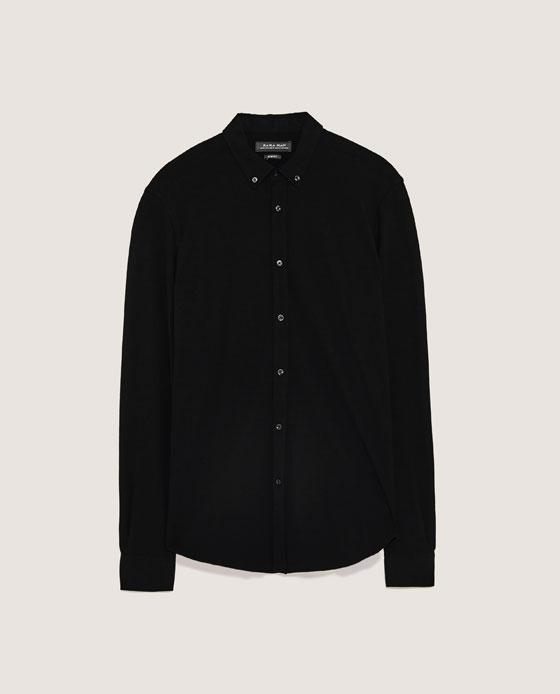teeshirt: (109, 107, 442, 605)
